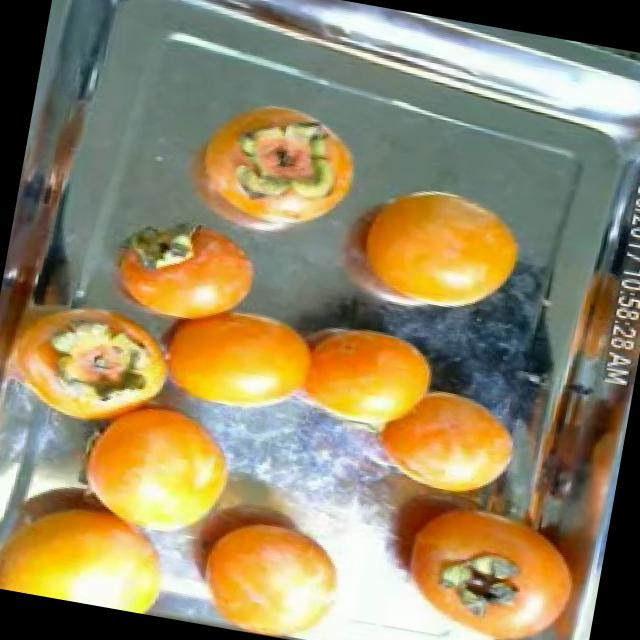Fruit: (324, 161, 546, 343), (156, 76, 380, 255), (159, 494, 371, 640), (350, 360, 542, 520), (82, 194, 281, 346)
